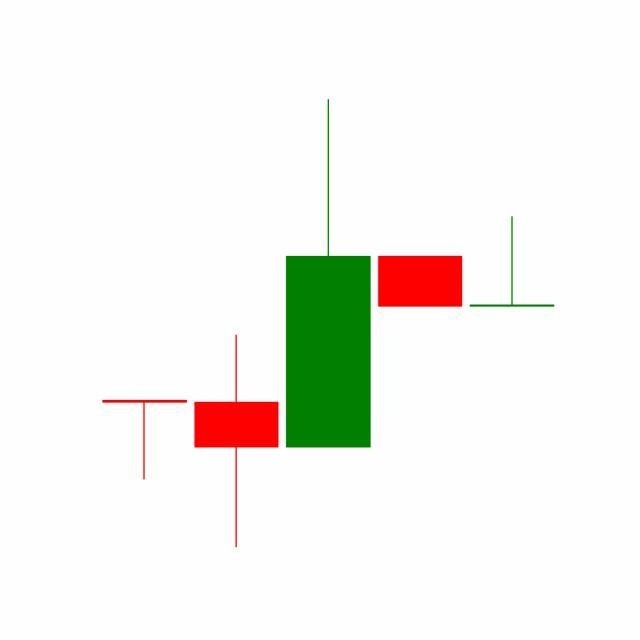Marubozu: (374, 256, 468, 308)
